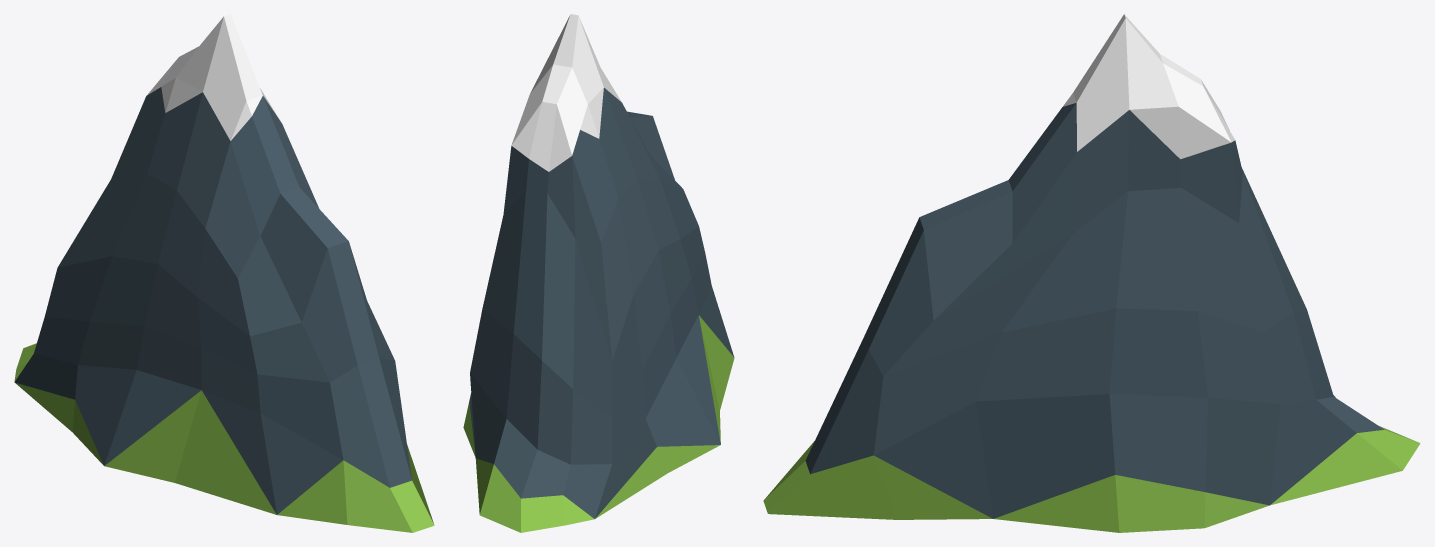
File: mountain_11_lev1.glb
3 views of the same model, side by side, from view 1: azimuth 30°, elevation 25°; view 2: azimuth 150°, elevation 25°; view 3: azimuth 270°, elevation 25° (orthographic). The views are drawn at different scales.
Parts seen in each view (by area): view 1: mountain_11_lev1; view 2: mountain_11_lev1; view 3: mountain_11_lev1.
Part boxes in pixels (left/top/right/bottom): mountain_11_lev1: left=14, top=14, right=434, bottom=532; mountain_11_lev1: left=463, top=14, right=734, bottom=532; mountain_11_lev1: left=763, top=14, right=1420, bottom=532.
Bounding box in the file's own units: 11.84 × 20.97 × 26.63.
